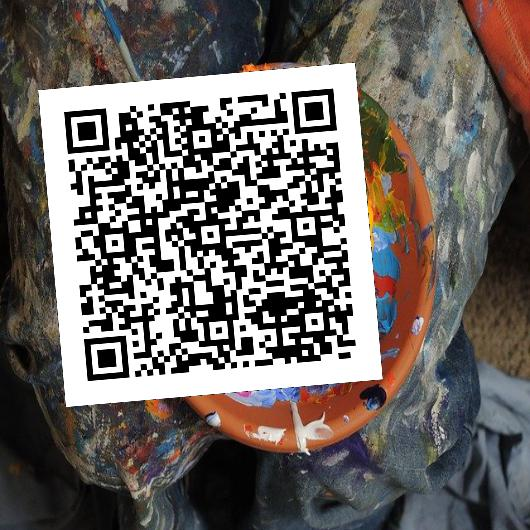qr_code: (38, 62, 382, 406)
